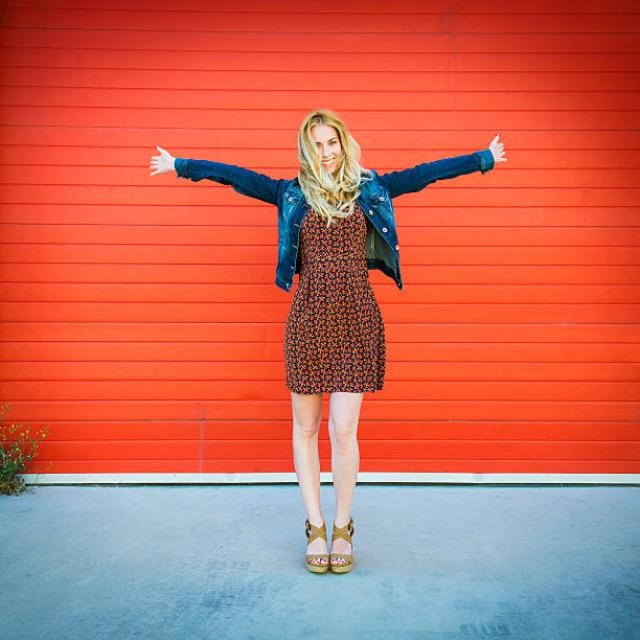Real human 2: (139, 97, 518, 578)
